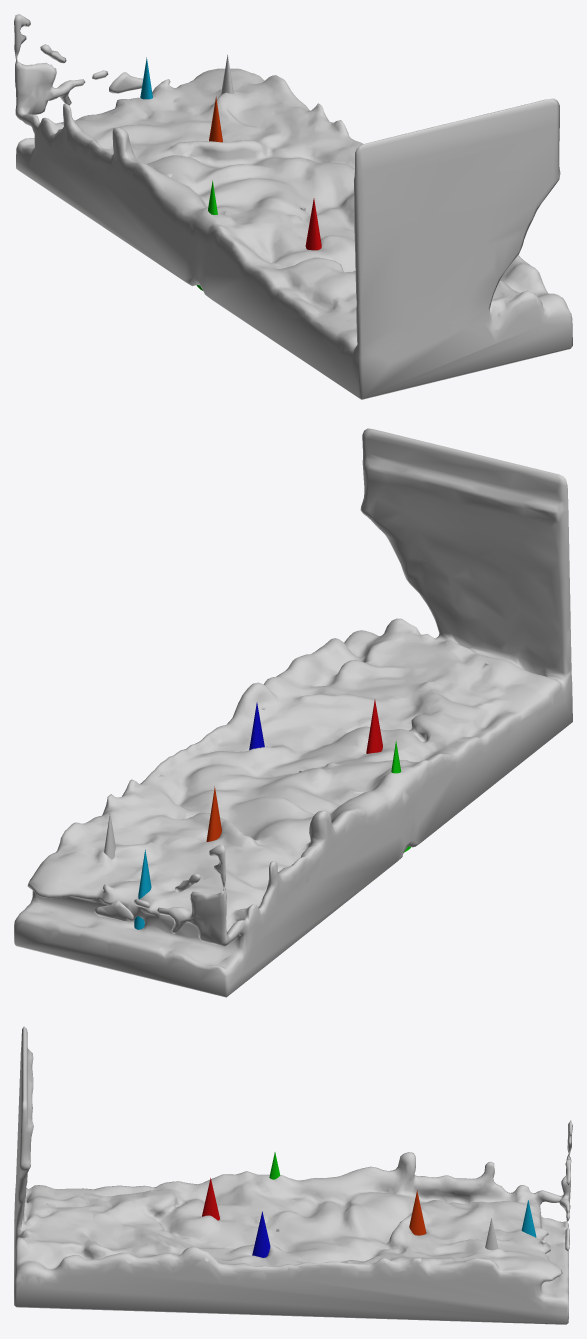
3 views of the same model, one above another, from view 1: azimuth 30°, elevation 25°; view 2: azimuth 150°, elevation 25°; view 3: azimuth 270°, elevation 25° (orthographic). The views are drawn at different scales.
Visible parts, largest first — view 1: Liquid_Domain, 円錐.001; view 2: Liquid_Domain; view 3: Liquid_Domain, 円錐.002, 円錐.004, 円錐.001.
Boxes of the visible parts, x1,y1,x2,y2 form: Liquid_Domain: (14,14,572,399); 円錐.001: (305,198,321,250); Liquid_Domain: (14,428,572,997); Liquid_Domain: (14,1026,572,1324); 円錐.002: (252,1211,270,1257); 円錐.004: (409,1190,426,1235); 円錐.001: (202,1178,219,1220).
Size of the model in its own units: 129 by 158 by 364.
